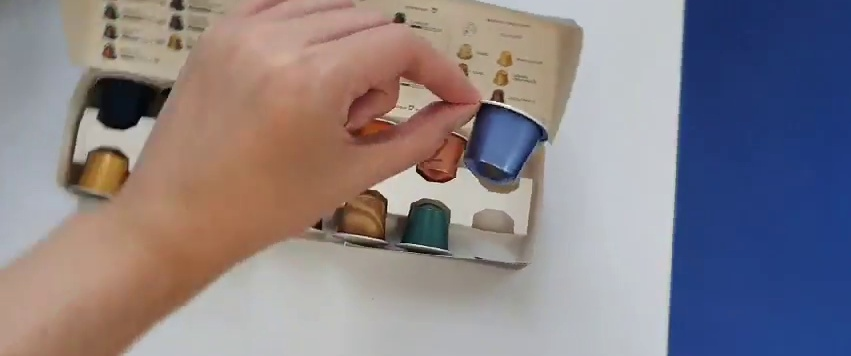capsule_7: (466, 99, 550, 183)
